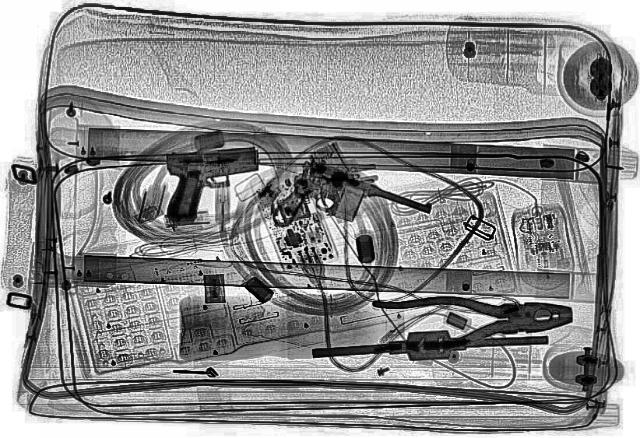Gun: (252, 160, 434, 264), (164, 147, 258, 223)
Pliers: (368, 284, 578, 356)
